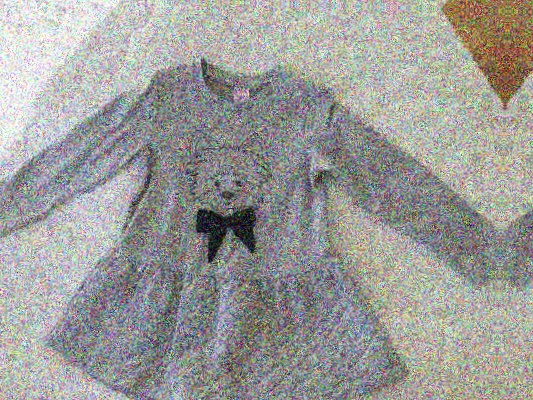Dress: (0, 64, 495, 400), (507, 82, 533, 400)
